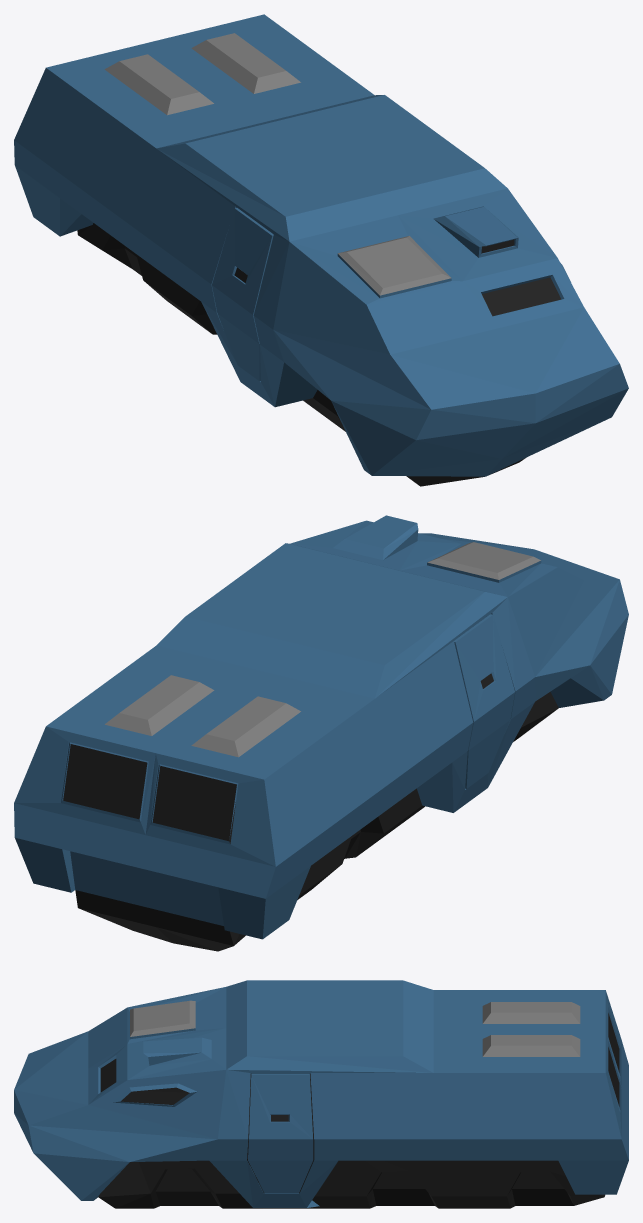
Rendered from Ground vehicle 1.glb.
The picture shows the model from 3 angles, top to bottom: view 1: azimuth 30°, elevation 25°; view 2: azimuth 150°, elevation 25°; view 3: azimuth 270°, elevation 25°; orthographic projection. The views are drawn at different scales.
Visible parts, largest first — view 1: body, door right; view 2: body, door right; view 3: body, door left.
Boxes of the visible parts, x1,y1,x2,y2 form: body: [14, 14, 628, 486]; door right: [212, 208, 273, 381]; body: [14, 515, 628, 951]; door right: [454, 614, 514, 788]; body: [14, 980, 628, 1208]; door left: [248, 1073, 313, 1193].
Bounding box in the file's own units: 3.77 × 3.03 × 9.84.
